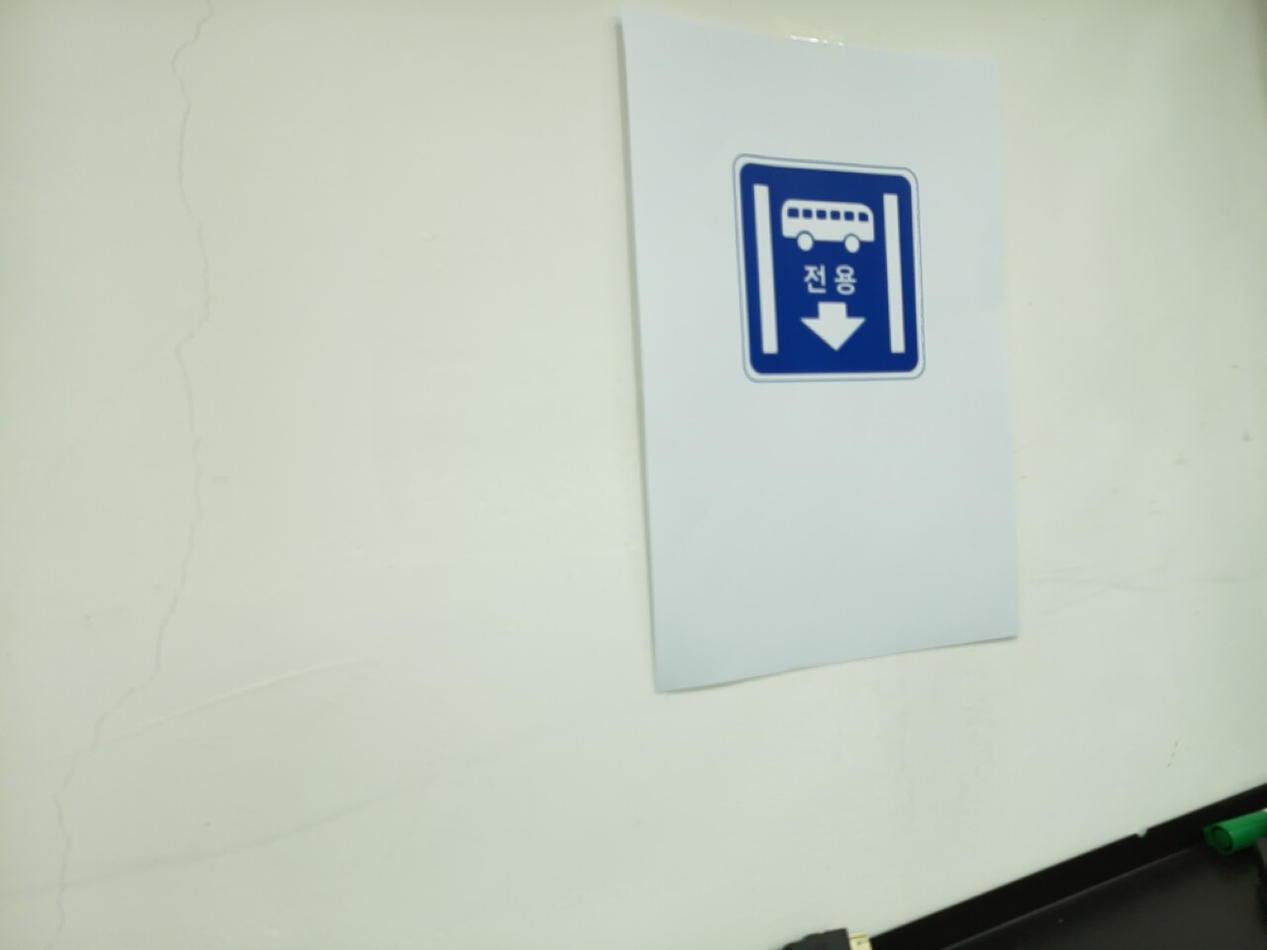bus_only_lane: (732, 154, 926, 382)
